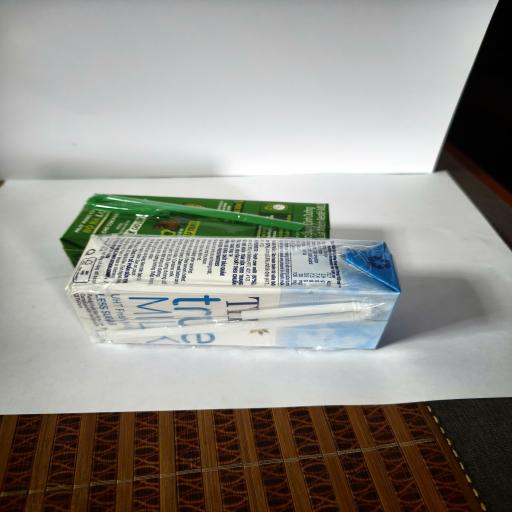milo: (59, 194, 331, 270)
